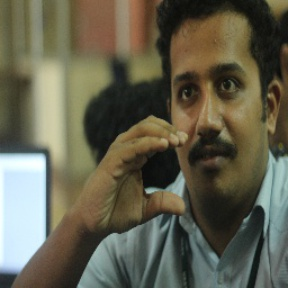C: (95, 112, 197, 229)
